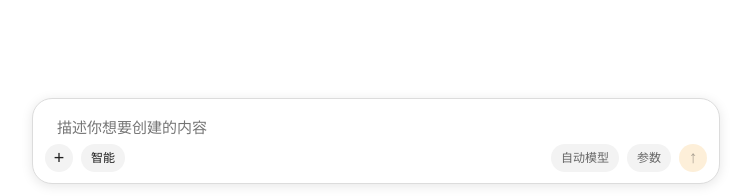
DeferredAIInputBar › blocks submission while the workspace is still restoring
Type "不能在恢复时提交" into the text box with test id "ai-input-textarea" at (376, 128), box [45,114,707,143]
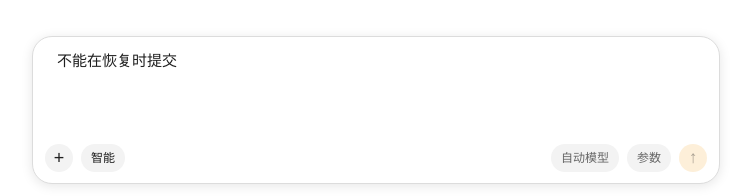
Press Enter in the text box with test id "ai-input-textarea", box [45,47,707,143]
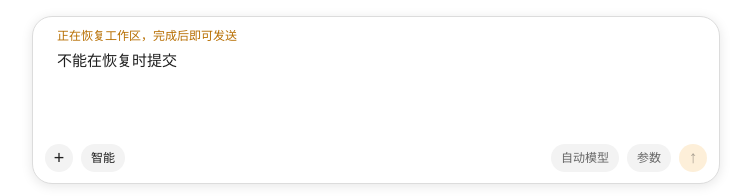
Expected: the message shows "正在恢复工作区", [57,29,237,43]
